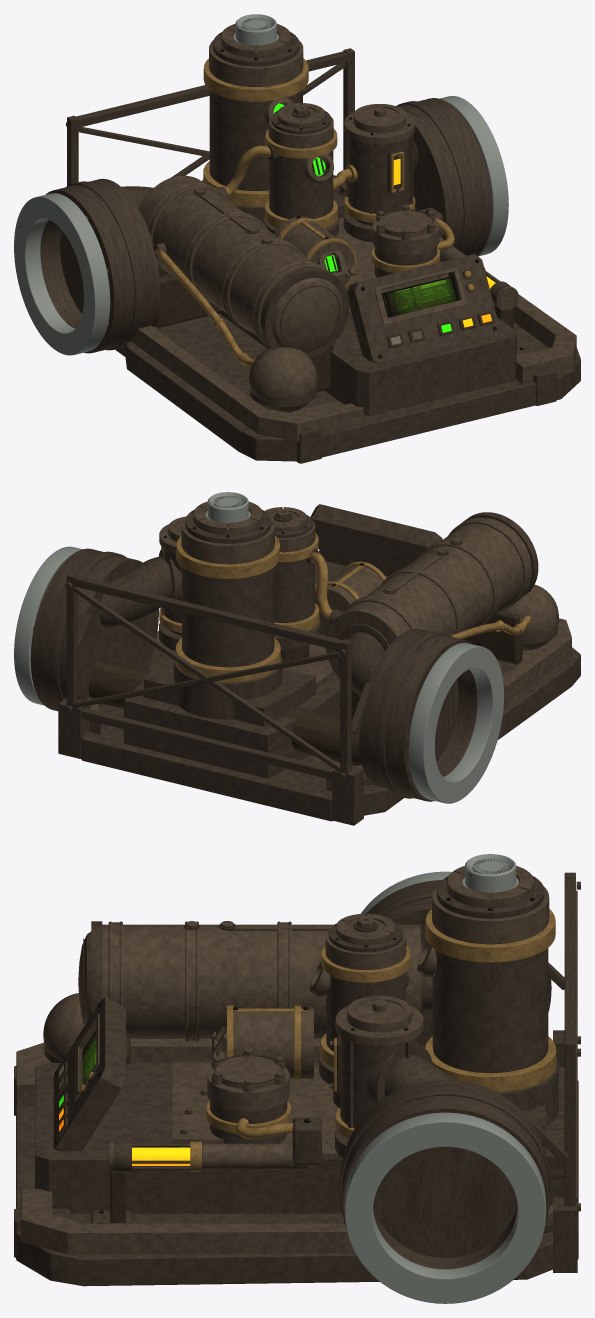
File: boiler-v08-cold.glb
3 views of the same model, one above another, from view 1: azimuth 30°, elevation 25°; view 2: azimuth 150°, elevation 25°; view 3: azimuth 270°, elevation 25° (orthographic). The views are drawn at different scales.
Parts seen in each view (by area): view 1: Boiler continuous foundation, Boiler central load bearing chassis, Boiler main horizontal vessel, Water circular interface manifold, Water full-size bolted inlet flange, Boiler inclined front control housing, Steam circular interface manifold, Boiler left continuous frame rail, Central head upright valve body.001, V02 main vessel dished front cap, Boiler front spherical auxiliary vessel, Boiler right continuous frame rail (+41 smaller); view 2: Boiler continuous foundation, Boiler central load bearing chassis, Boiler main horizontal vessel, Steam circular interface manifold, Water circular interface manifold, Water full-size bolted inlet flange, Central head upright valve body.001, Boiler inclined front control housing, Central head deck support pedestal.001, Rear cage upper crossmember, Rear cage lower crossmember, Steam full-size bolted inlet flange (+34 smaller); view 3: Boiler central load bearing chassis, Steam circular interface manifold, Boiler main horizontal vessel, Steam full-size bolted inlet flange, Boiler continuous foundation, Central head upright valve body.001, Boiler right continuous frame rail, Boiler inclined front control housing, Front small horizontal chamber, Boiler left continuous frame rail, Central head upper valve crown.001, Central head upper shoulder band.001 (+43 smaller).
Boxes of the visible parts, box(x1,y1,x2,y2) form: Boiler continuous foundation: box(115, 308, 580, 461); Boiler central load bearing chassis: box(219, 192, 516, 415); Boiler main horizontal vessel: box(139, 175, 311, 336); Water circular interface manifold: box(40, 178, 160, 351); Water full-size bolted inlet flange: box(14, 193, 110, 355); Boiler inclined front control housing: box(347, 254, 499, 362); Steam circular interface manifold: box(397, 98, 489, 255); Boiler left continuous frame rail: box(131, 325, 351, 441); Central head upright valve body.001: box(209, 90, 302, 190); V02 main vessel dished front cap: box(272, 278, 342, 352); Boiler front spherical auxiliary vessel: box(249, 347, 317, 412); Boiler right continuous frame rail: box(486, 271, 576, 384); Boiler continuous foundation: box(81, 647, 580, 821); Boiler central load bearing chassis: box(124, 550, 388, 778); Boiler main horizontal vessel: box(326, 517, 531, 678); Steam circular interface manifold: box(33, 549, 171, 711); Water circular interface manifold: box(338, 628, 477, 799); Water full-size bolted inlet flange: box(408, 643, 503, 803); Central head upright valve body.001: box(182, 567, 274, 667); Boiler inclined front control housing: box(310, 504, 442, 576); Central head deck support pedestal.001: box(88, 659, 361, 766); Rear cage upper crossmember: box(70, 575, 342, 650); Rear cage lower crossmember: box(81, 708, 333, 779); Steam full-size bolted inlet flange: box(14, 546, 82, 705); Boiler central load bearing chassis: box(35, 1063, 564, 1213); Steam circular interface manifold: box(341, 1054, 548, 1269); Boiler main horizontal vessel: box(102, 924, 420, 1038); Steam full-size bolted inlet flange: box(344, 1112, 546, 1303); Boiler continuous foundation: box(16, 1080, 578, 1286); Central head upright valve body.001: box(432, 948, 548, 1072); Boiler right continuous frame rail: box(21, 1189, 552, 1254); Boiler inclined front control housing: box(53, 997, 126, 1151); Front small horizontal chamber: box(233, 1008, 313, 1078); Boiler left continuous frame rail: box(16, 1039, 557, 1106); Central head upper valve crown.001: box(432, 886, 549, 944); Central head upper shoulder band.001: box(425, 909, 555, 962).
Bounding box in the file's own units: 2 × 1.22 × 1.91.
29 materials, 17 textured.
